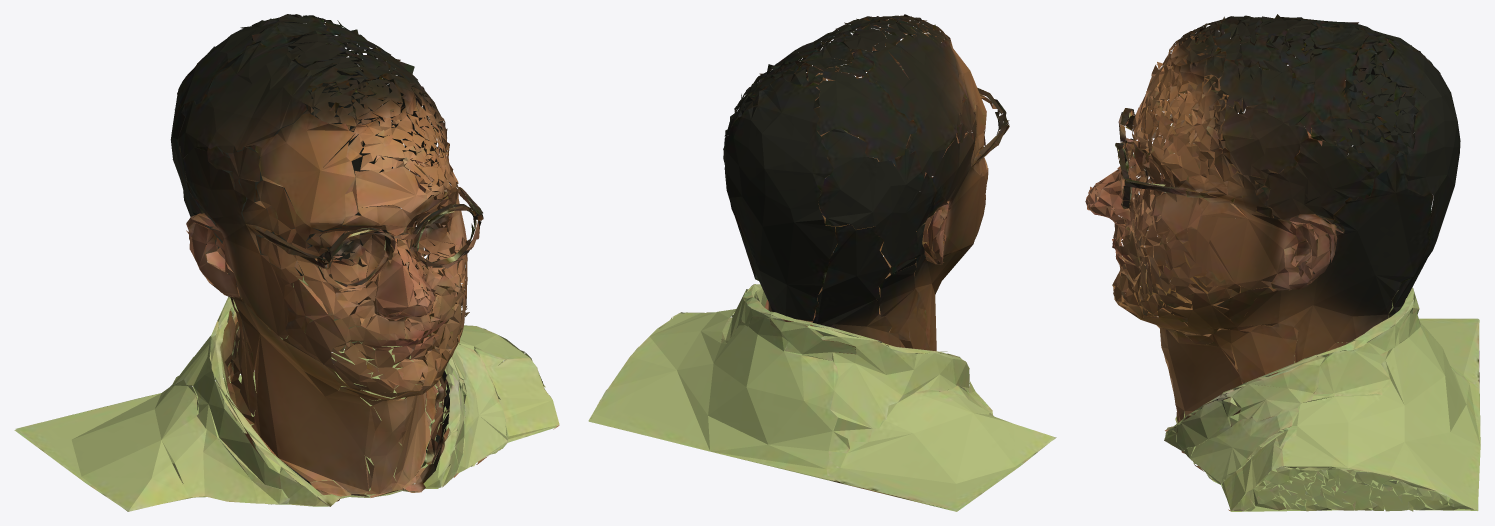
Rendered from Duwe.obj.
3 views of the same model, side by side, from view 1: azimuth 30°, elevation 25°; view 2: azimuth 150°, elevation 25°; view 3: azimuth 270°, elevation 25° (orthographic). The views are drawn at different scales.
Parts seen in each view (by area): view 1: geometry_0; view 2: geometry_0; view 3: geometry_0.
Part boxes in pixels (x1,y1,x2,y2): geometry_0: (14,14,559,511); geometry_0: (588,14,1056,511); geometry_0: (1085,14,1480,511).
Size of the model in its own units: 2 by 1.9 by 1.74.
Materials: 1 (1 with a texture image).
